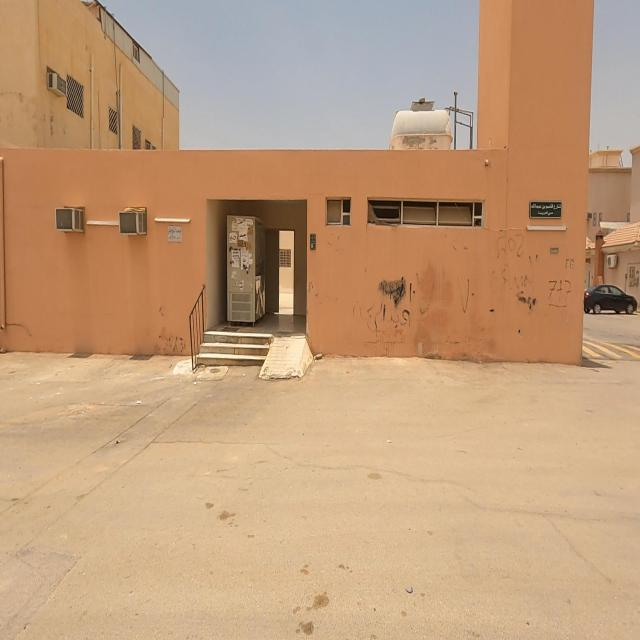Graffiti: (353, 272, 437, 335), (495, 234, 540, 316), (454, 241, 475, 315), (550, 278, 572, 307), (566, 259, 576, 273)
